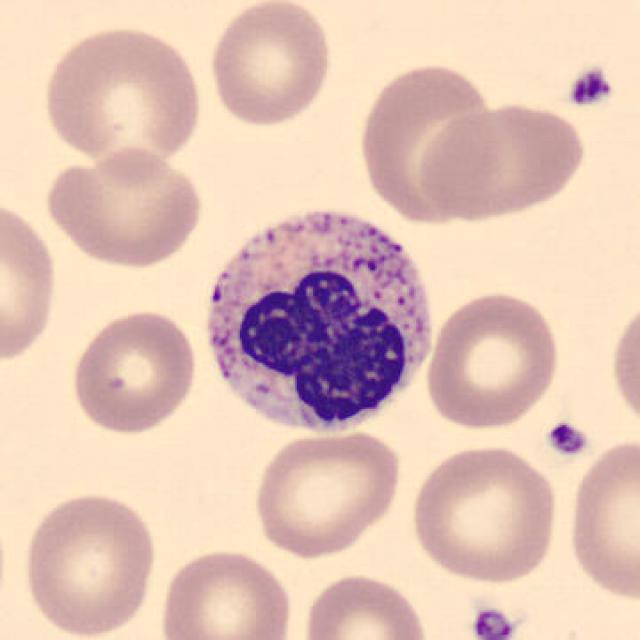Neutrophil: (194, 196, 442, 448)
Platelets: (564, 63, 615, 113), (468, 603, 519, 640), (542, 419, 590, 458)
RBC: (38, 19, 206, 170), (354, 58, 503, 224), (407, 441, 564, 587), (414, 99, 590, 224), (41, 143, 208, 271), (18, 488, 160, 638), (249, 426, 405, 560), (422, 286, 564, 432), (66, 305, 201, 437), (204, 0, 335, 130), (155, 545, 297, 640), (562, 432, 638, 606), (0, 194, 62, 368), (299, 569, 432, 640), (606, 293, 640, 437)
